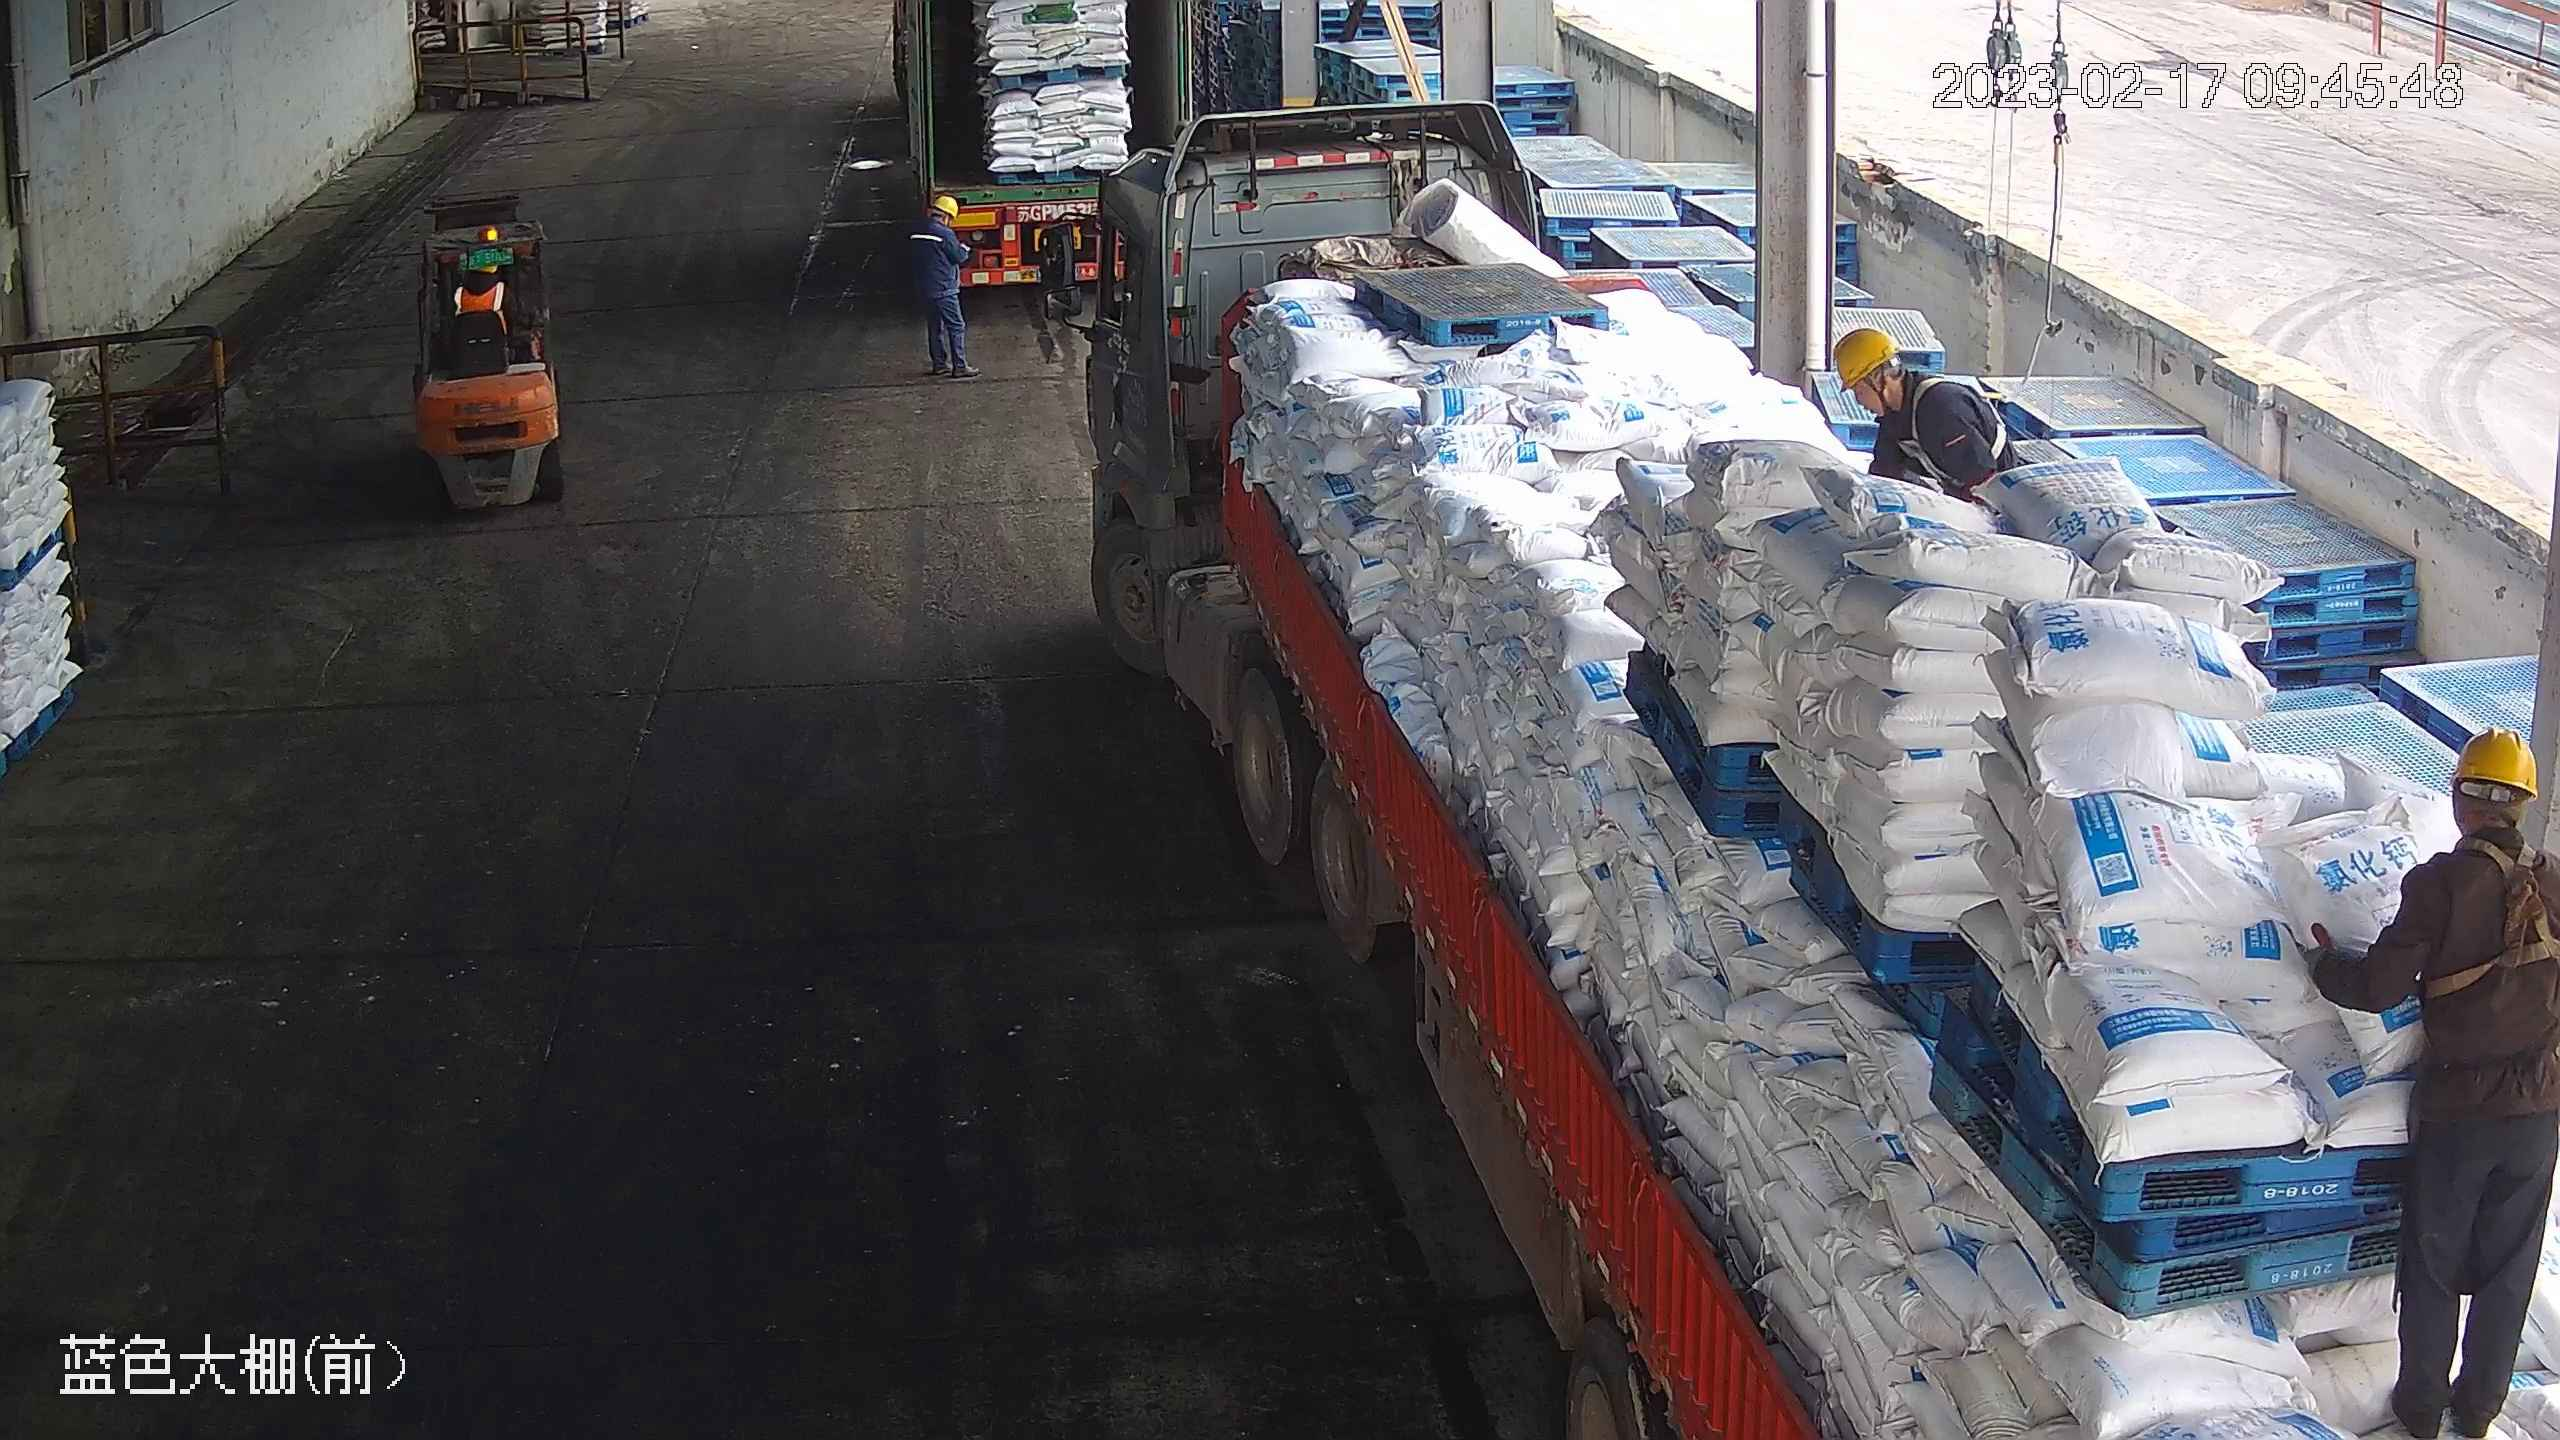belt: (2419, 839, 2560, 994), (1892, 372, 2010, 470)
head: (2376, 721, 2559, 926), (1832, 323, 1975, 438), (452, 251, 509, 308), (912, 196, 964, 250)
helmet: (2444, 720, 2541, 803), (1831, 323, 1900, 391), (925, 196, 958, 223)
people: (2298, 717, 2560, 1434), (905, 195, 971, 381)
truck: (1064, 108, 2553, 1427)
